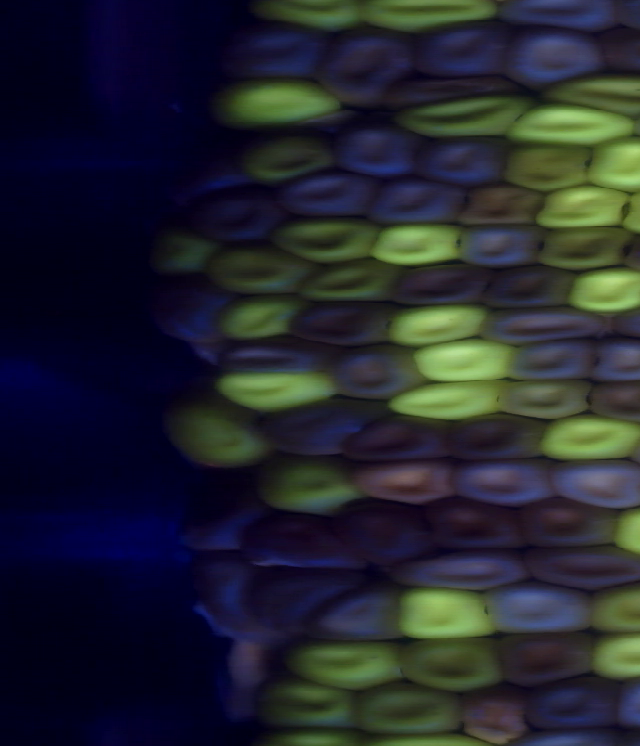fluorescent: (196, 71, 351, 131), (387, 87, 537, 149), (151, 398, 278, 471), (502, 95, 640, 157), (273, 635, 411, 697), (390, 629, 513, 698), (245, 666, 364, 737), (345, 677, 474, 740), (253, 452, 366, 522), (198, 239, 319, 304), (387, 579, 497, 649), (205, 363, 342, 418), (226, 128, 345, 188), (262, 210, 385, 268), (291, 250, 408, 310), (381, 374, 516, 425), (379, 296, 495, 353), (407, 332, 521, 390), (495, 139, 600, 201), (205, 287, 314, 346), (528, 176, 634, 234), (533, 219, 638, 276), (535, 408, 640, 465), (362, 217, 471, 271), (354, 1, 504, 38), (541, 66, 640, 122), (241, 1, 374, 37), (144, 228, 227, 284), (558, 262, 640, 317), (582, 132, 640, 196), (585, 574, 640, 641), (585, 625, 640, 689), (608, 499, 640, 563)
nonfluorescent: (179, 547, 293, 655), (244, 392, 402, 464), (236, 561, 367, 639), (234, 507, 372, 579), (308, 25, 422, 112), (329, 489, 443, 572), (494, 19, 613, 98), (211, 14, 336, 86), (388, 543, 539, 598), (141, 266, 235, 353), (318, 336, 433, 407), (405, 15, 525, 83), (166, 479, 262, 559), (479, 575, 595, 641), (489, 628, 605, 691), (519, 669, 626, 737), (413, 494, 528, 557), (182, 181, 295, 245), (287, 292, 399, 355), (335, 412, 457, 469), (514, 491, 626, 553), (475, 300, 616, 349), (302, 583, 408, 648), (404, 131, 513, 193), (211, 329, 341, 380), (524, 539, 640, 596), (378, 71, 526, 115), (327, 119, 425, 184), (272, 167, 387, 222), (342, 457, 463, 509), (441, 410, 553, 466), (446, 454, 561, 508), (453, 679, 544, 745), (359, 175, 468, 230), (390, 259, 500, 312), (544, 455, 640, 515), (478, 260, 582, 315), (503, 334, 605, 387), (165, 141, 257, 199), (454, 219, 549, 275), (489, 1, 628, 36), (582, 332, 640, 389), (585, 374, 640, 428), (597, 24, 640, 83), (610, 668, 640, 739), (607, 1, 640, 44)
